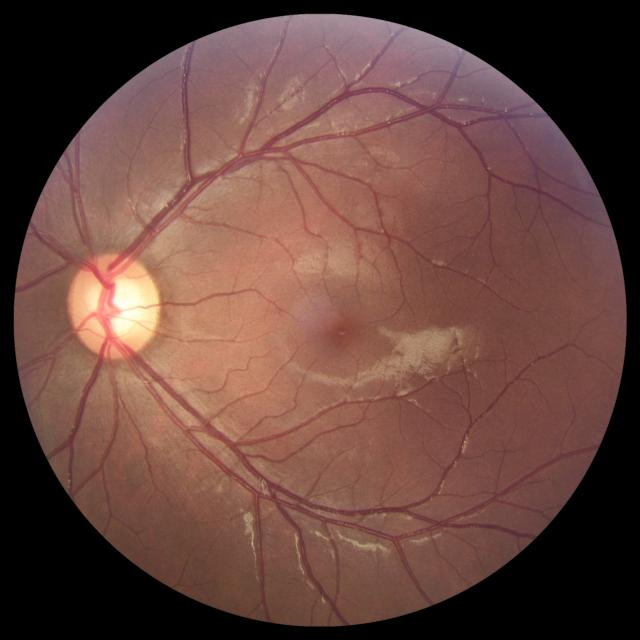OC: (89, 275, 142, 336)
OD: (68, 254, 160, 356)
